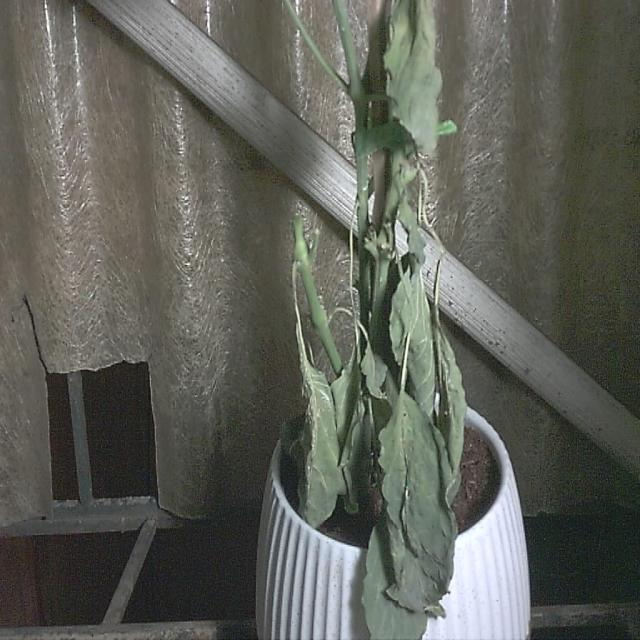Leaf: (376, 391, 454, 611), (294, 365, 339, 525)
